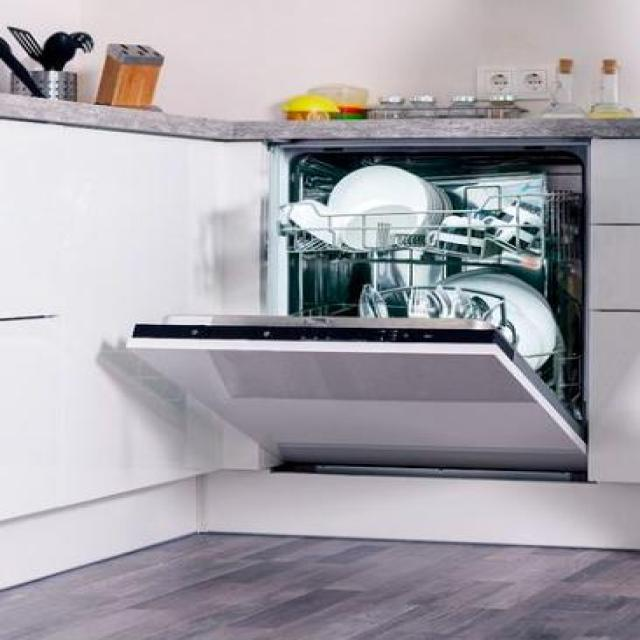dishwasher: (126, 135, 591, 481)
